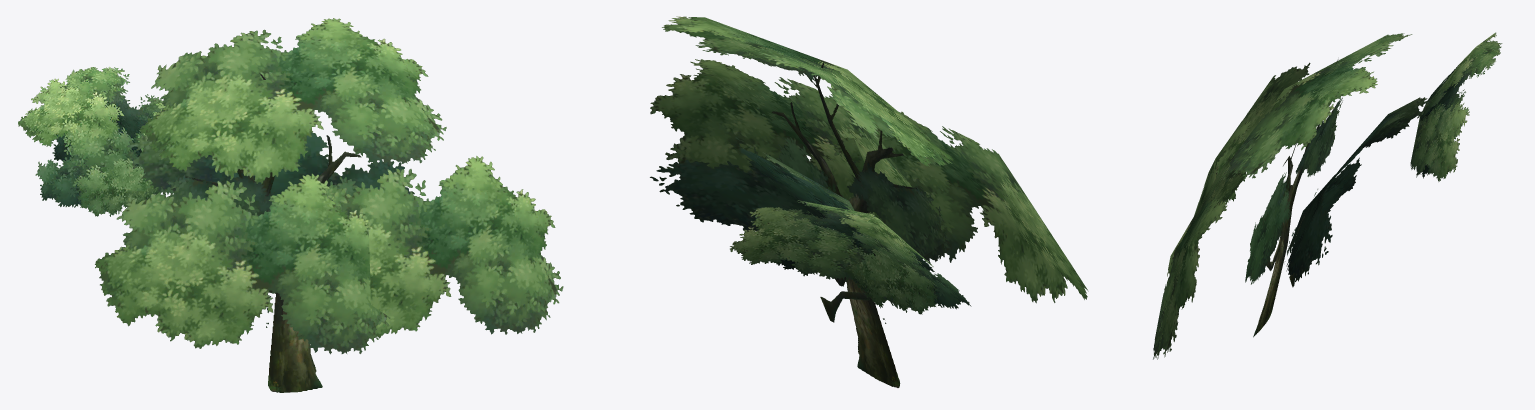
The model's file is shu_06.FBX.
3 views of the same model, side by side, from view 1: azimuth 30°, elevation 25°; view 2: azimuth 150°, elevation 25°; view 3: azimuth 270°, elevation 25° (orthographic). The views are drawn at different scales.
Visible parts, largest first — view 1: shu_06; view 2: shu_06; view 3: shu_06.
Boxes of the visible parts, x1=… form: shu_06: x1=18, y1=18, x2=563, y2=392; shu_06: x1=650, y1=16, x2=1088, y2=387; shu_06: x1=1153, y1=32, x2=1502, y2=359.
Size of the model in its own units: 1296 by 857 by 980.
